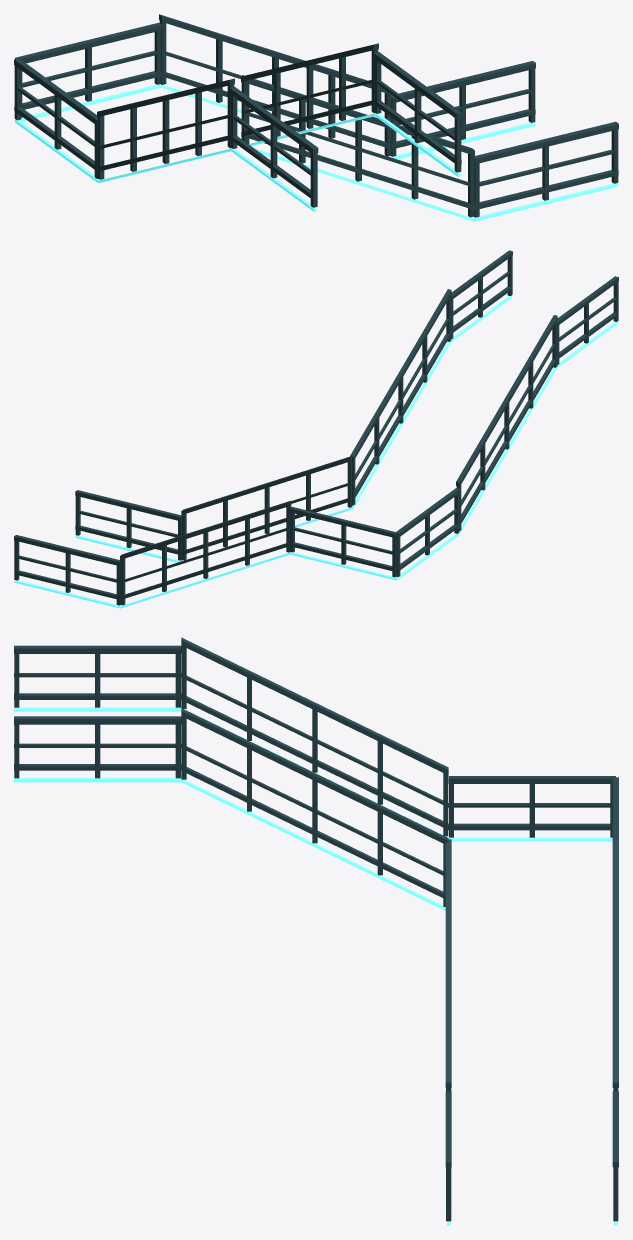
The model's file is d06_harbour_footbridge_06_south.glb.
The picture shows the model from 3 angles, top to bottom: view 1: azimuth 30°, elevation 25°; view 2: azimuth 150°, elevation 25°; view 3: azimuth 270°, elevation 25°; orthographic projection. The views are drawn at different scales.
Parts seen in each view (by area): view 1: D06HarbourFootbridge06_south_Mesh; view 2: D06HarbourFootbridge06_south_Mesh; view 3: D06HarbourFootbridge06_south_Mesh.
Part boxes in pixels (x1,y1,x2,y2): D06HarbourFootbridge06_south_Mesh: [14, 14, 618, 221]; D06HarbourFootbridge06_south_Mesh: [14, 250, 618, 608]; D06HarbourFootbridge06_south_Mesh: [14, 637, 618, 1225].
Bounding box in the file's own units: 11.58 × 7.03 × 11.58.
